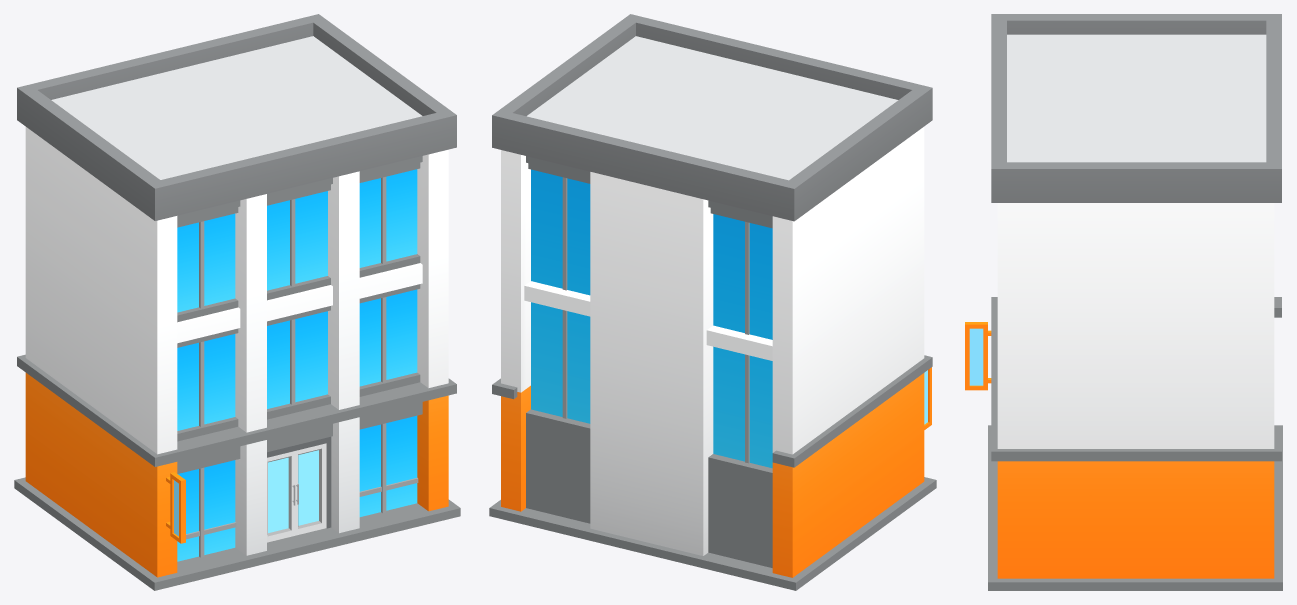
Rendered from Building_Hotel_07.glb.
3 renders of one model, left to right at view 1: azimuth 30°, elevation 25°; view 2: azimuth 150°, elevation 25°; view 3: azimuth 270°, elevation 25°, orthographic. The views are drawn at different scales.
Visible parts, largest first — view 1: Building_Hotel_07; view 2: Building_Hotel_07; view 3: Building_Hotel_07.
Part boxes in pixels (left/top/right/bottom): Building_Hotel_07: left=14, top=14, right=460, bottom=590; Building_Hotel_07: left=489, top=14, right=936, bottom=590; Building_Hotel_07: left=965, top=14, right=1282, bottom=590.
Size of the model in its own units: 8.22 by 10.27 by 7.03.
1 material, 1 textured.
